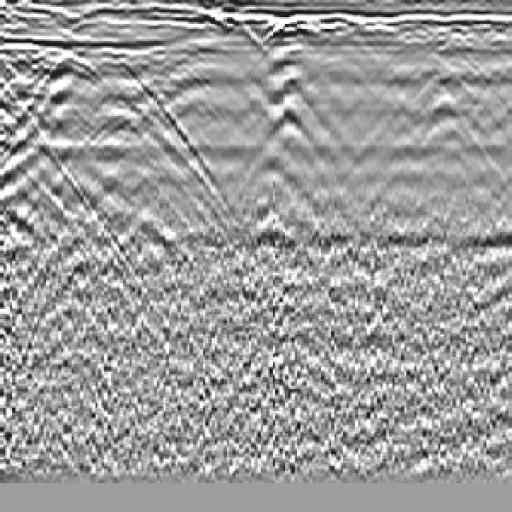non-metallic: (11, 35, 259, 281)
